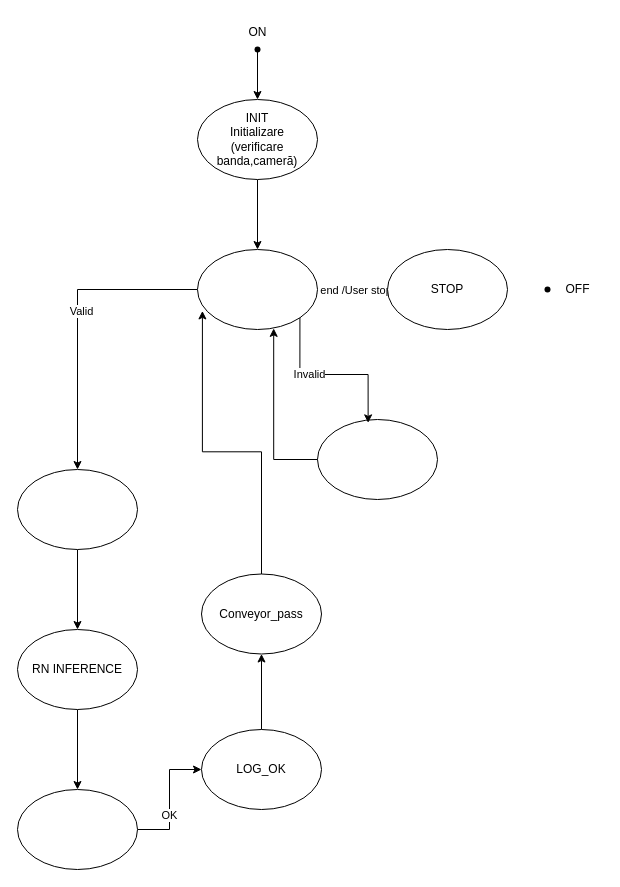
Some shapes in this 620 by 887 pixel diagram are drawn without their labels. Each missing label, with the box of its shape:
Clasificare_Piesa: (16, 788, 138, 870)
IDLE: (196, 248, 318, 330)
PREPROCESS: (16, 468, 138, 550)
